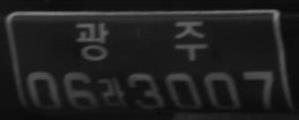0: (202, 70, 239, 111), (26, 70, 62, 110), (165, 72, 201, 111)
3: (128, 72, 164, 110)
6: (64, 71, 97, 111)
7: (242, 69, 275, 111)
광주_D: (75, 20, 208, 61)
라: (98, 76, 126, 109)
